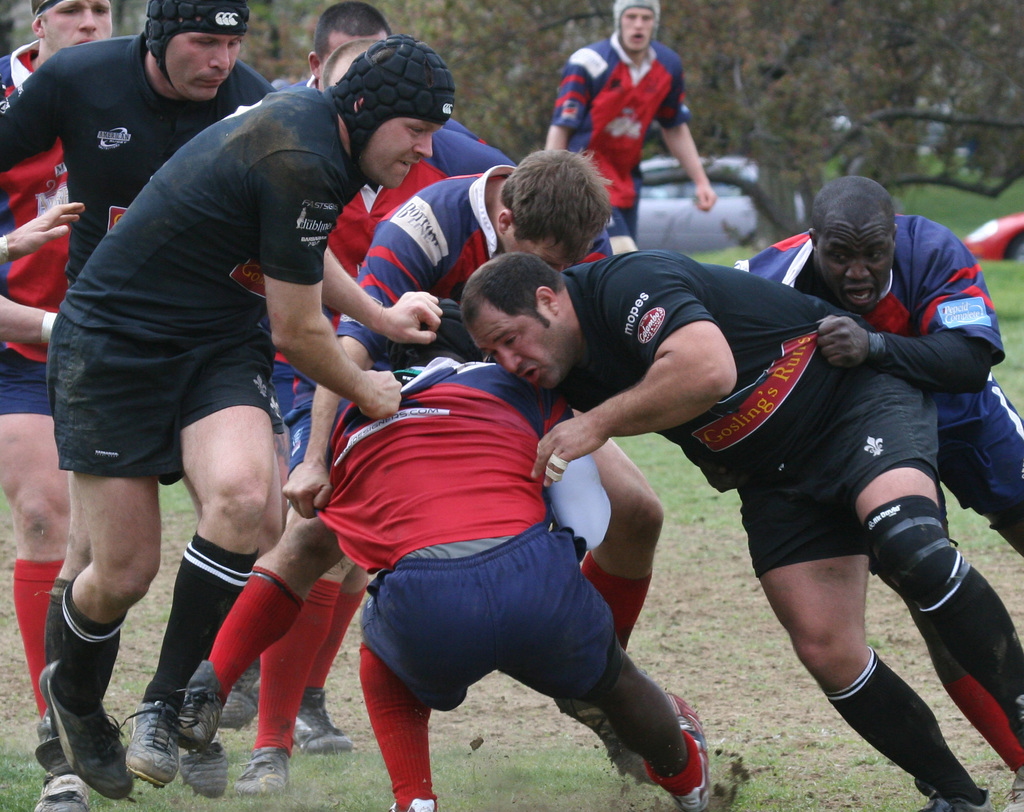face: (46, 0, 115, 59)
